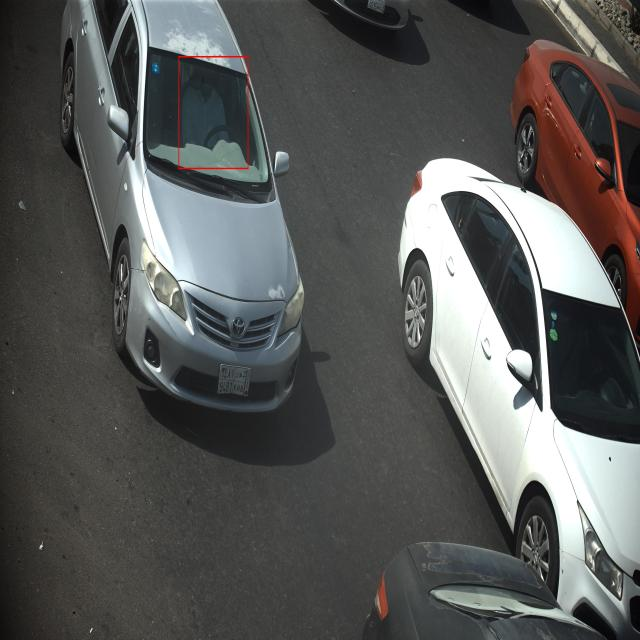windshield: (143, 42, 277, 209)
